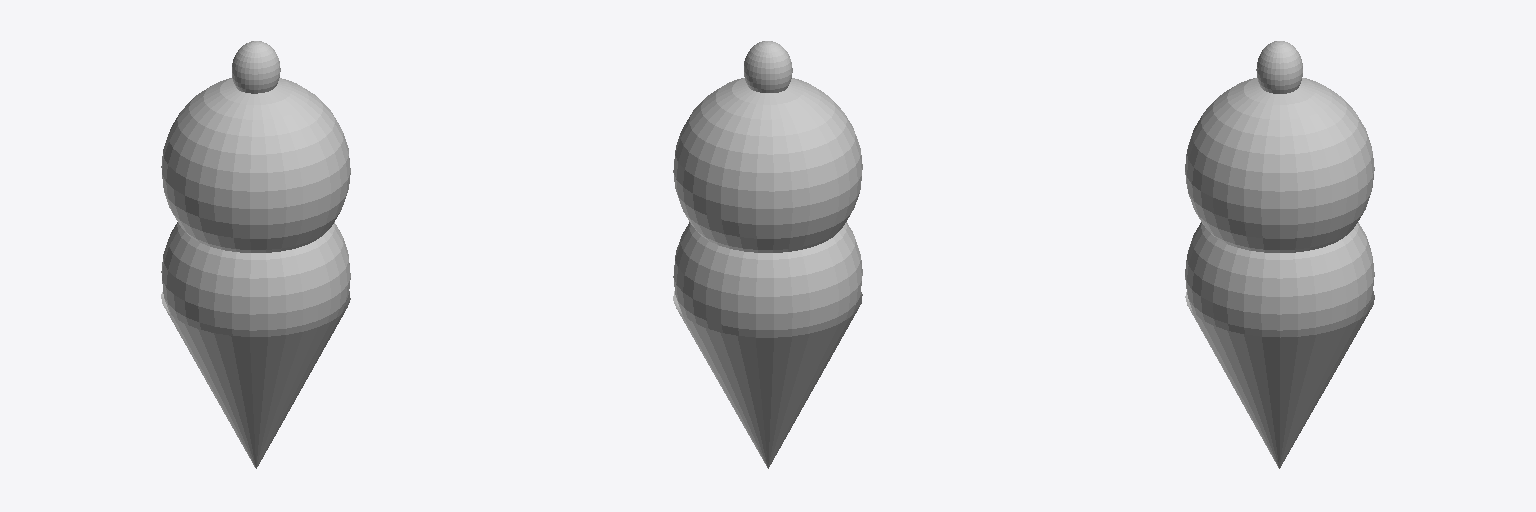
File: icecream.obj
3 views of the same model, side by side, from view 1: azimuth 30°, elevation 25°; view 2: azimuth 150°, elevation 25°; view 3: azimuth 270°, elevation 25° (orthographic).
Visible parts, largest first — view 1: Cone; view 2: Cone; view 3: Cone.
Part boxes in pixels (x1,y1,x2,y2): Cone: (161, 41, 350, 468); Cone: (673, 41, 862, 468); Cone: (1185, 41, 1374, 468).
Bounding box in the file's own units: 2 × 4.96 × 2.